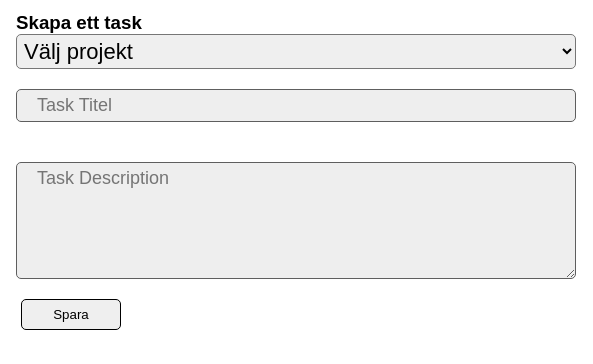
Scenario: Skapa ett task utan problem
This screenshot has width=593, height=364.
Note: Fill in the form inputs
Select "Project 1 id: 1" in the dropdown at (296, 52), box [16, 34, 576, 69]
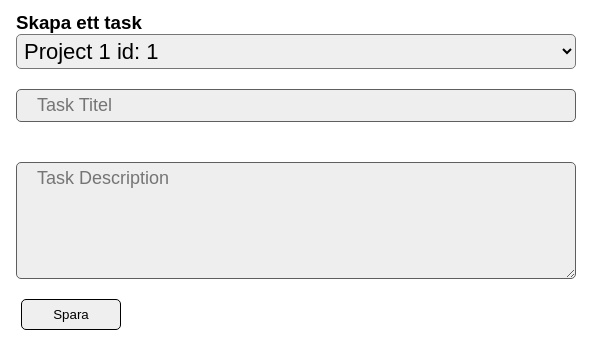
Type "Test Task" into the field with placeholder "Task Titel".
click(296, 106); type("Test Task")  # box [16, 89, 576, 122]
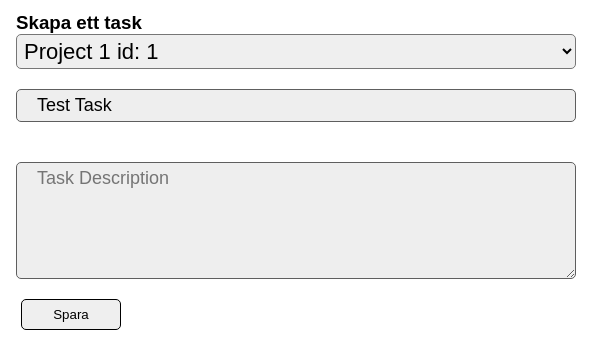
Type "Test Description" into the text box with placeholder "Task Description".
click(296, 220); type("Test Description")  # box [16, 162, 576, 279]
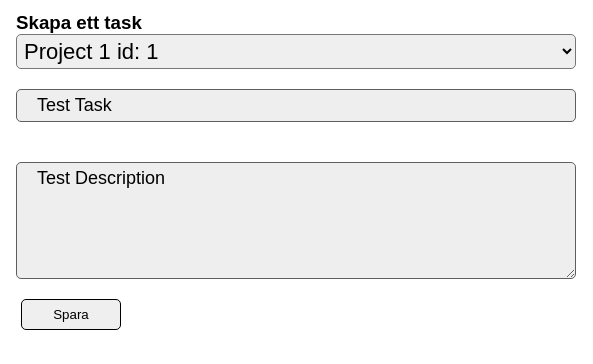
Note: Submit the form
Click the button "Spara".
click(71, 314)  # box [21, 299, 121, 330]
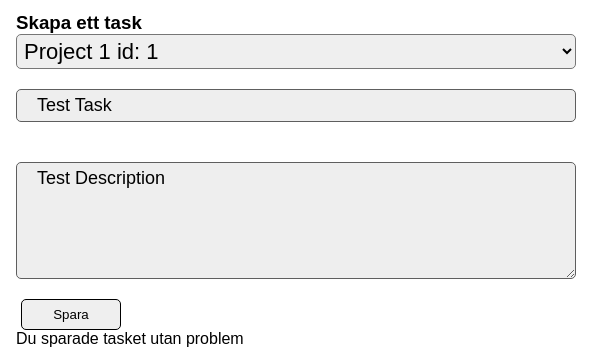
Now the text "Du sparade tasket utan problem" is shown, box [16, 330, 244, 347]
